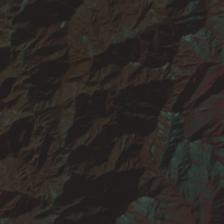landslides: (3, 167, 17, 191), (88, 7, 109, 21), (47, 4, 67, 17), (194, 34, 208, 47), (203, 182, 216, 195), (36, 208, 51, 218), (192, 160, 205, 168)
